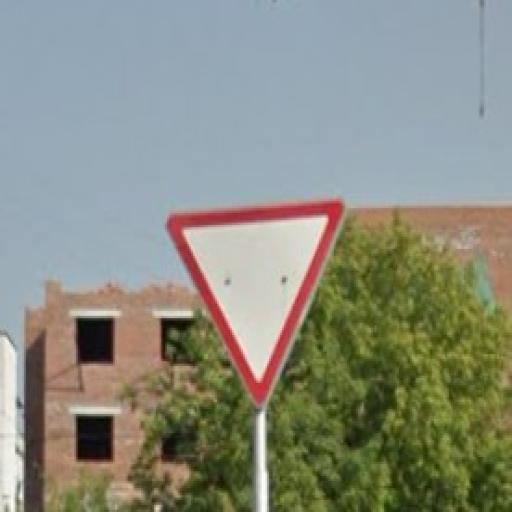traffic_sign: (166, 197, 350, 410)
